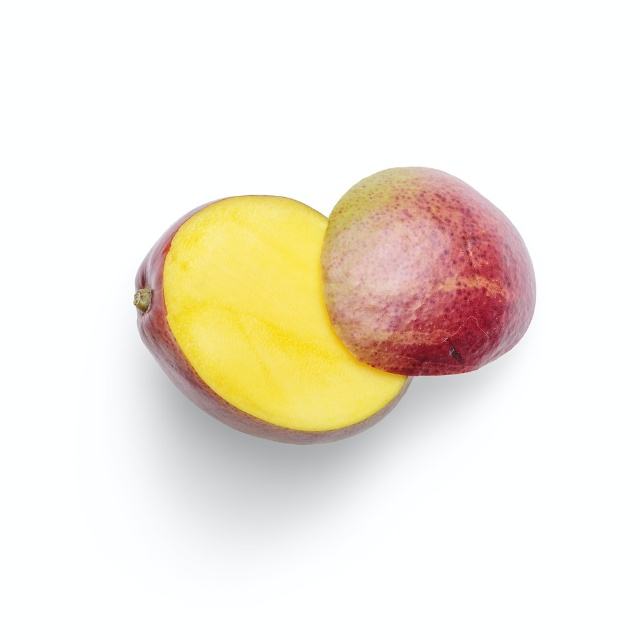mango: (135, 196, 412, 451), (323, 165, 535, 374)
